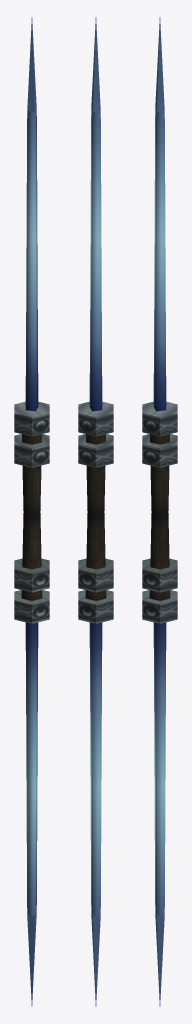
File: WP_Dagger_I.FBX
3 renders of one model, left to right at view 1: azimuth 30°, elevation 25°; view 2: azimuth 150°, elevation 25°; view 3: azimuth 330°, elevation 25°, orthographic.
Parts seen in each view (by area): view 1: WP_Dagger_I1; view 2: WP_Dagger_I1; view 3: WP_Dagger_I1.
Part boxes in pixels (x1,y1,x2,y2): WP_Dagger_I1: (14, 17, 49, 1006); WP_Dagger_I1: (78, 17, 113, 1006); WP_Dagger_I1: (142, 17, 177, 1006).
Size of the model in its own units: 0.0694 by 1.86 by 0.0601.
